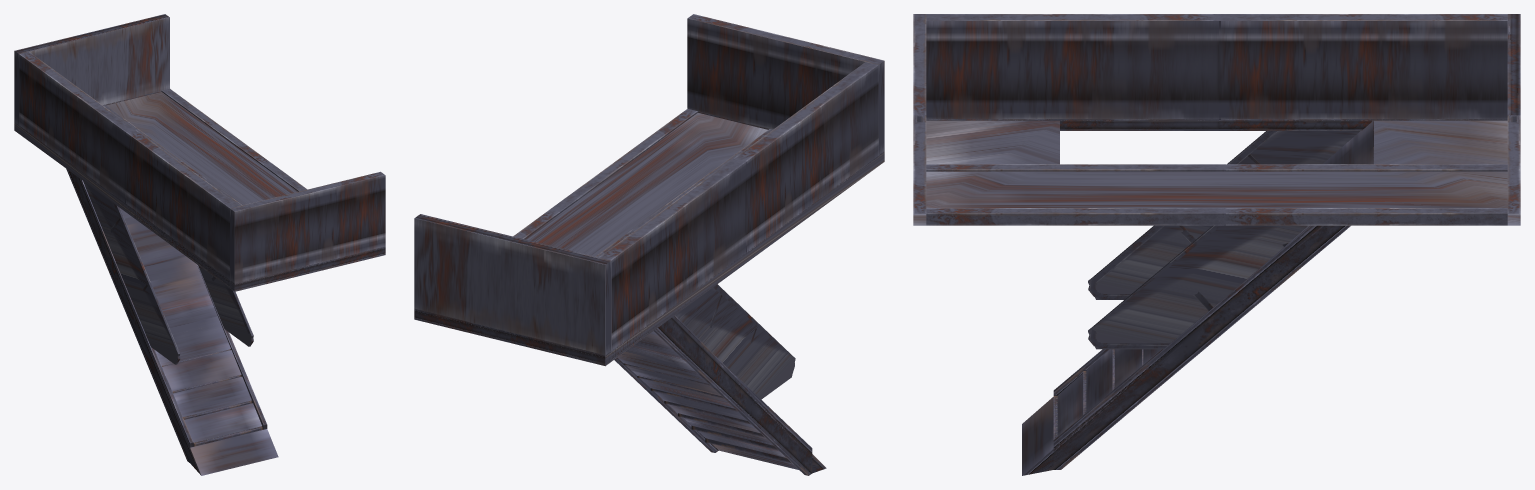
The model's file is fireEscape_top02.FBX.
The picture shows the model from 3 angles, left to right: view 1: azimuth 30°, elevation 25°; view 2: azimuth 150°, elevation 25°; view 3: azimuth 270°, elevation 25°; orthographic projection. The views are drawn at different scales.
Visible parts, largest first — view 1: fireEscape_top02_COL, fireEscape_top02; view 2: fireEscape_top02_COL, fireEscape_top02; view 3: fireEscape_top02_COL, fireEscape_top02.
Boxes of the visible parts, x1,y1,x2,y2 form: fireEscape_top02_COL: [14, 14, 385, 475]; fireEscape_top02: [14, 89, 385, 462]; fireEscape_top02_COL: [414, 14, 884, 473]; fireEscape_top02: [414, 108, 884, 475]; fireEscape_top02_COL: [913, 14, 1520, 475]; fireEscape_top02: [913, 115, 1520, 469].
Bounding box in the file's own units: 218 × 407 × 552.
